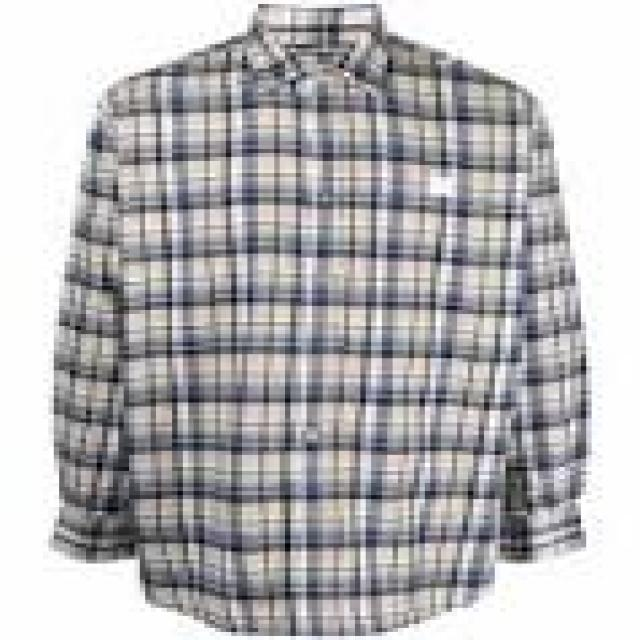plaid: (53, 1, 594, 635)
